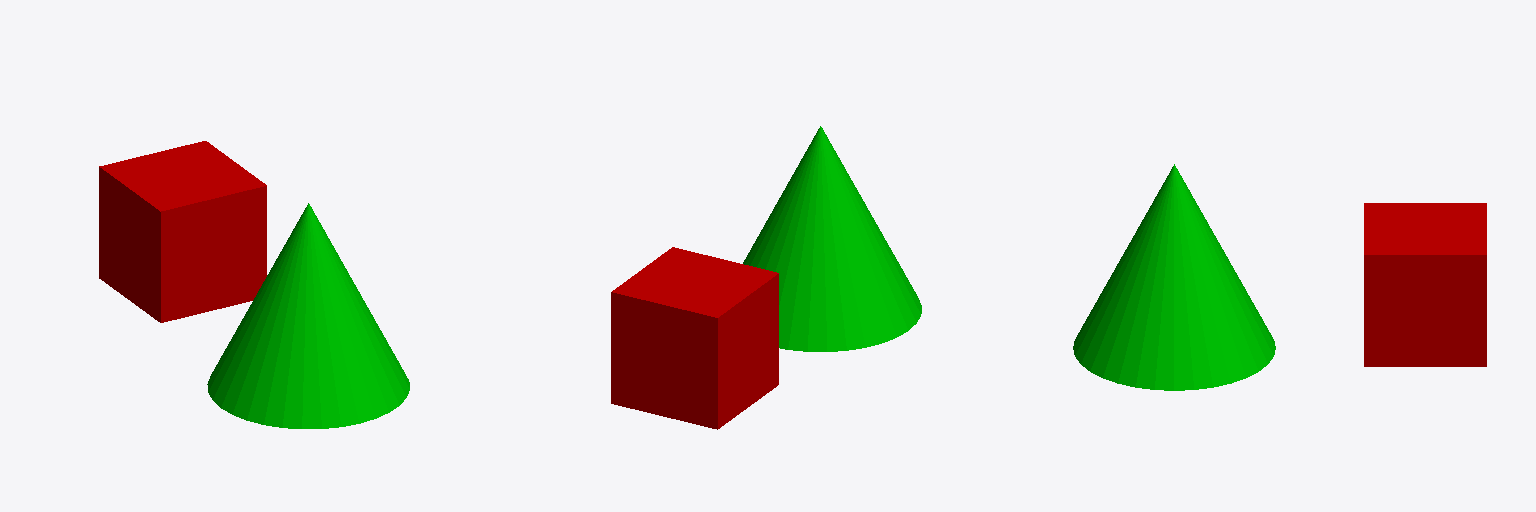
Rendered from exercise1.obj.
3 renders of one model, left to right at view 1: azimuth 30°, elevation 25°; view 2: azimuth 150°, elevation 25°; view 3: azimuth 270°, elevation 25°, orthographic.
Parts seen in each view (by area): view 1: Cone, Cube; view 2: Cube, Cone; view 3: Cone, Cube.
Boxes of the visible parts, <box> form: Cone: <box>207,203,409,428</box>; Cube: <box>99,141,266,322</box>; Cube: <box>611,247,778,429</box>; Cone: <box>743,126,921,351</box>; Cone: <box>1073,164,1275,390</box>; Cube: <box>1364,203,1486,366</box>.
Size of the model in its own units: 4.43 by 4.43 by 9.03.